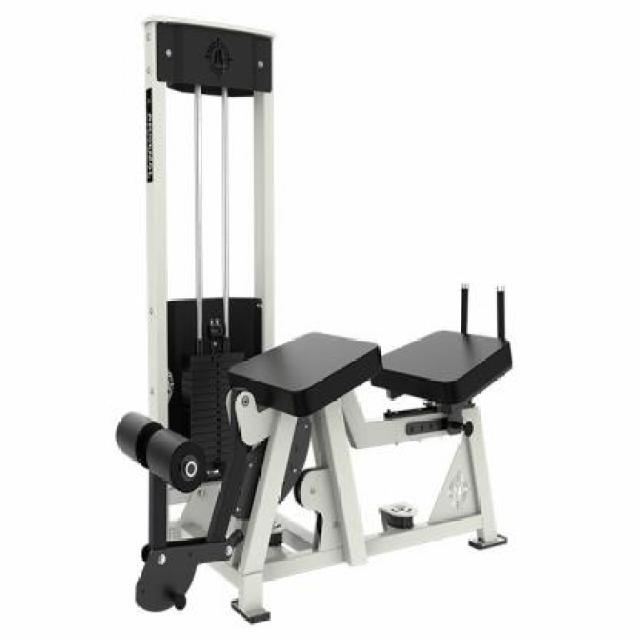reg curl machine: (117, 16, 514, 624)
